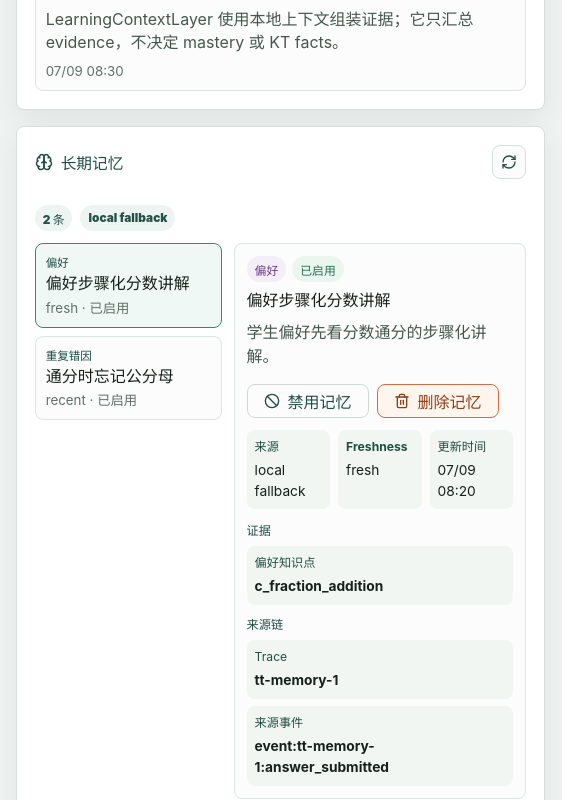
学习驾驶舱 › 可以在长期记忆面板禁用并重新启用单条记忆
(page scrolled)
Expected: the text "偏好步骤化分数讲解" is shown, [46,273,210,295]
Click the button "禁用记忆": click(308, 401) [247,384,369,418]
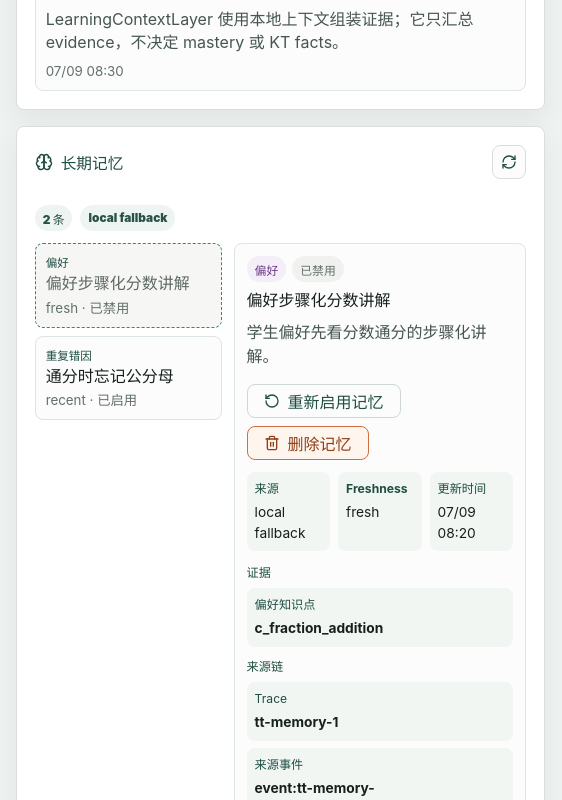
Result: the button "重新启用记忆" is shown
Result: the text "已禁用" is shown at [292,256,344,282]
Click the button "重新启用记忆": click(324, 401) [247,384,401,418]
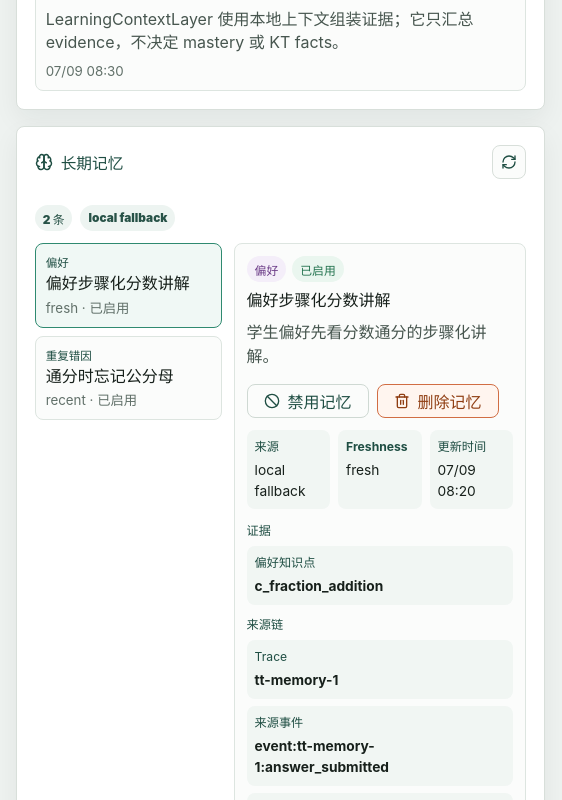
Result: the button "禁用记忆" is shown at [247,384,369,418]
Result: the text "已启用" is shown at [292,256,344,282]
